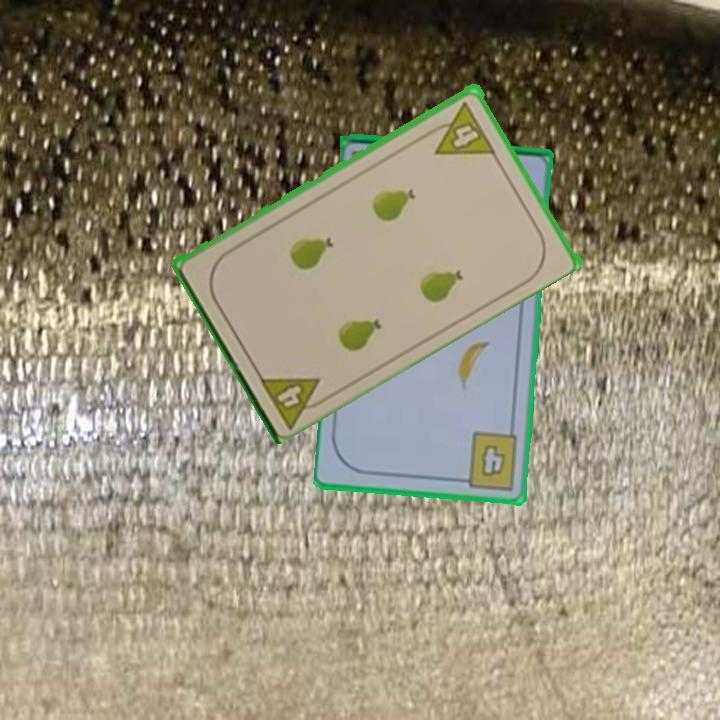4b: (454, 428, 522, 493)
4p: (255, 370, 334, 430), (422, 97, 498, 158)
